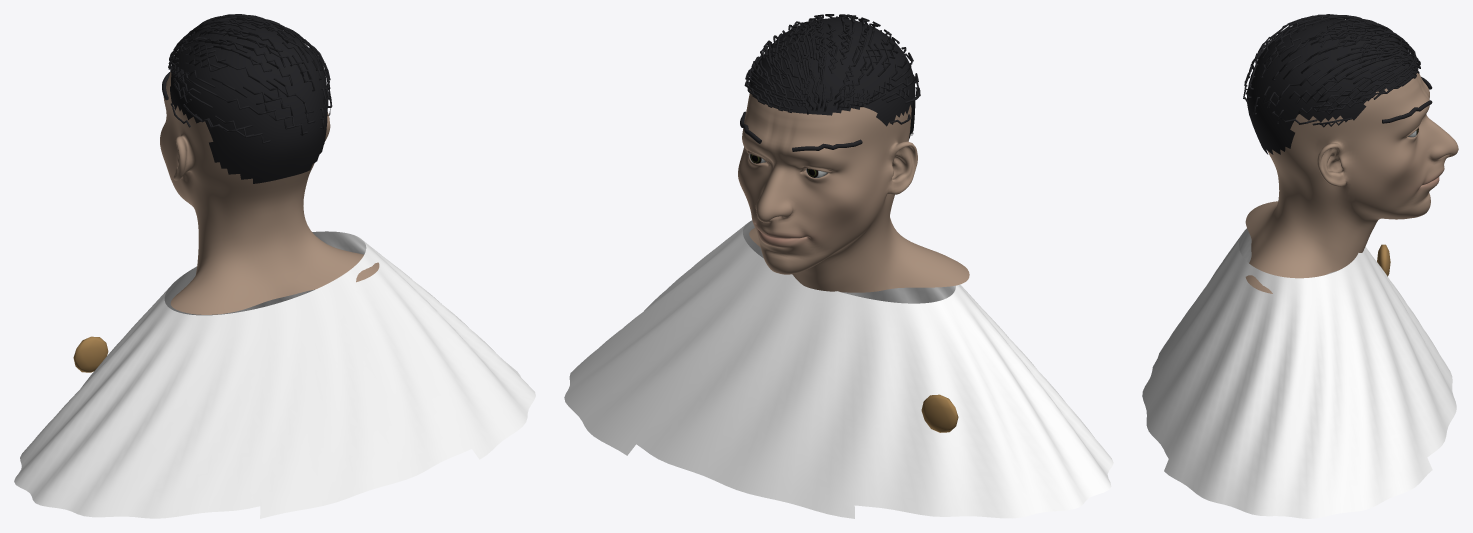
File: envoy_035.glb
The picture shows the model from 3 angles, left to right: view 1: azimuth 30°, elevation 25°; view 2: azimuth 150°, elevation 25°; view 3: azimuth 270°, elevation 25°; orthographic projection. The views are drawn at different scales.
Visible parts, largest first — view 1: Folded shoulder mantle, Envoy 035 body, Envoy 035 fitted scalp, Shoulder clasp; view 2: Folded shoulder mantle, Envoy 035 body, Envoy 035 fitted scalp, Shoulder clasp; view 3: Folded shoulder mantle, Envoy 035 body, Envoy 035 fitted scalp.
Boxes of the visible parts, left/top/right/bottom form: Folded shoulder mantle: left=14, top=231, right=535, bottom=518; Envoy 035 body: left=160, top=72, right=379, bottom=314; Envoy 035 fitted scalp: left=170, top=19, right=327, bottom=183; Shoulder clasp: left=73, top=336, right=108, bottom=372; Folded shoulder mantle: left=564, top=220, right=1113, bottom=518; Envoy 035 body: left=738, top=90, right=969, bottom=292; Envoy 035 fitted scalp: left=748, top=18, right=915, bottom=138; Shoulder clasp: left=921, top=394, right=958, bottom=432; Folded shoulder mantle: left=1142, top=228, right=1456, bottom=518; Envoy 035 body: left=1245, top=70, right=1458, bottom=293; Envoy 035 fitted scalp: left=1247, top=19, right=1418, bottom=154.
Size of the model in its own units: 0.3152 by 0.2461 by 0.1842.
